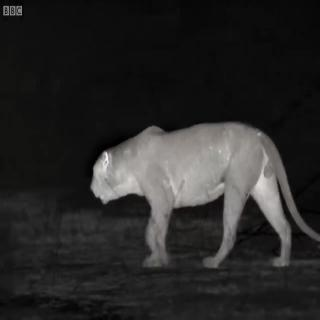Leopard: (92, 100, 320, 286)
